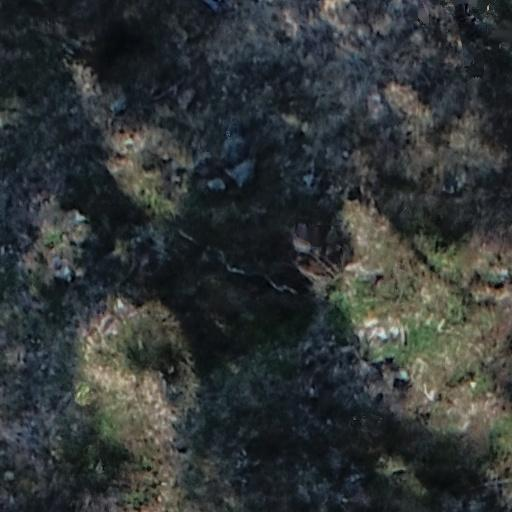stone: (228, 158, 260, 192), (218, 136, 250, 170), (193, 152, 218, 180), (205, 177, 229, 196), (362, 317, 382, 331), (372, 326, 388, 342), (387, 326, 403, 342)
